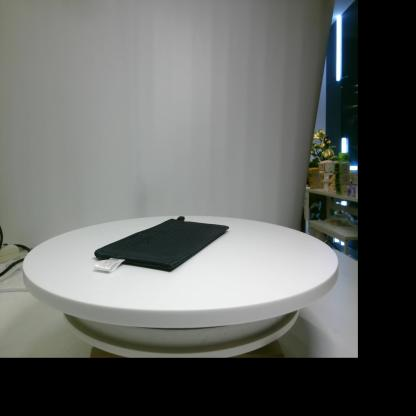Stationery: (94, 216, 229, 272)
